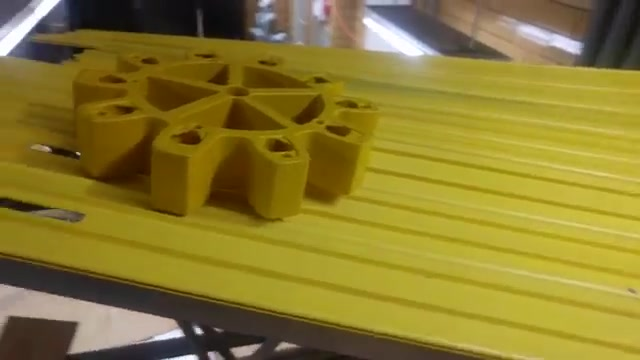gear: (78, 36, 386, 240)
